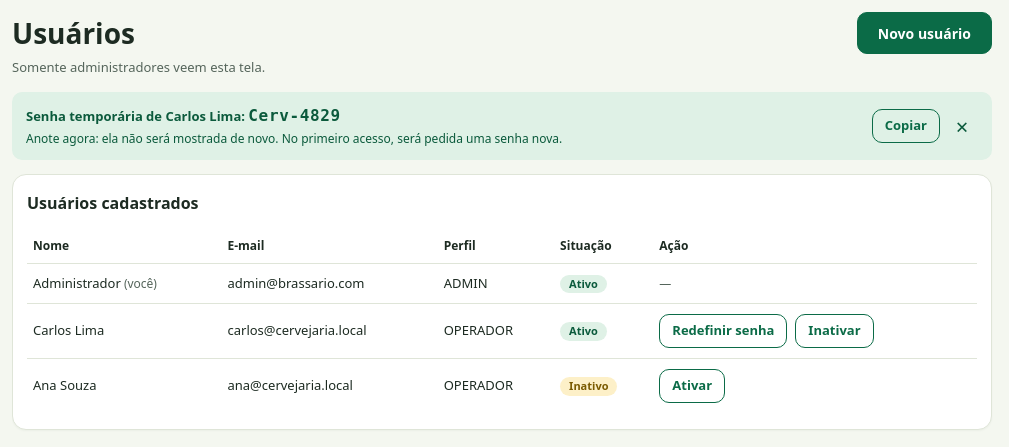
Test: Usuarios (lista) › mostra o aviso da senha temporária quando vem do cadastro e permite fechar
Check: the text "Senha temporária de Carlos Lima: Cerv-4829" is shown, box [26,106,341,124]
Click the button named "Fechar aviso da senha temporária" at (962, 126), box [946,110,978,142]
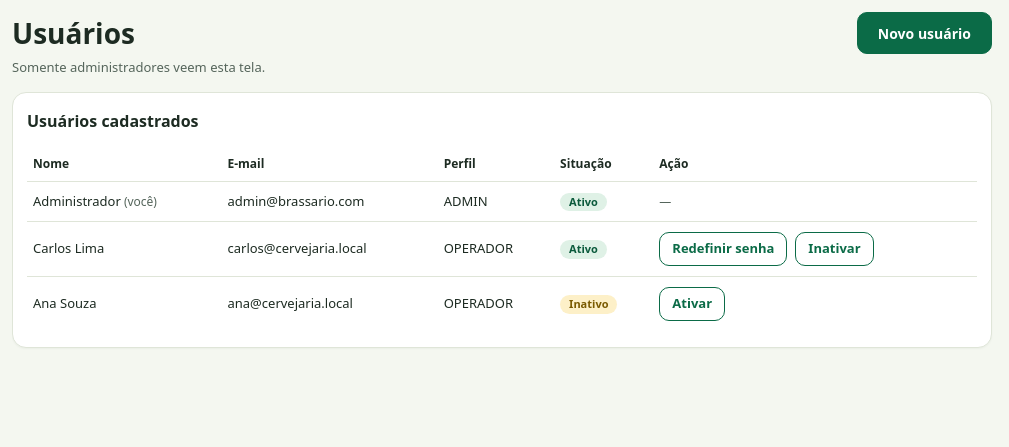
Check: the text "Cerv-4829" is gone
